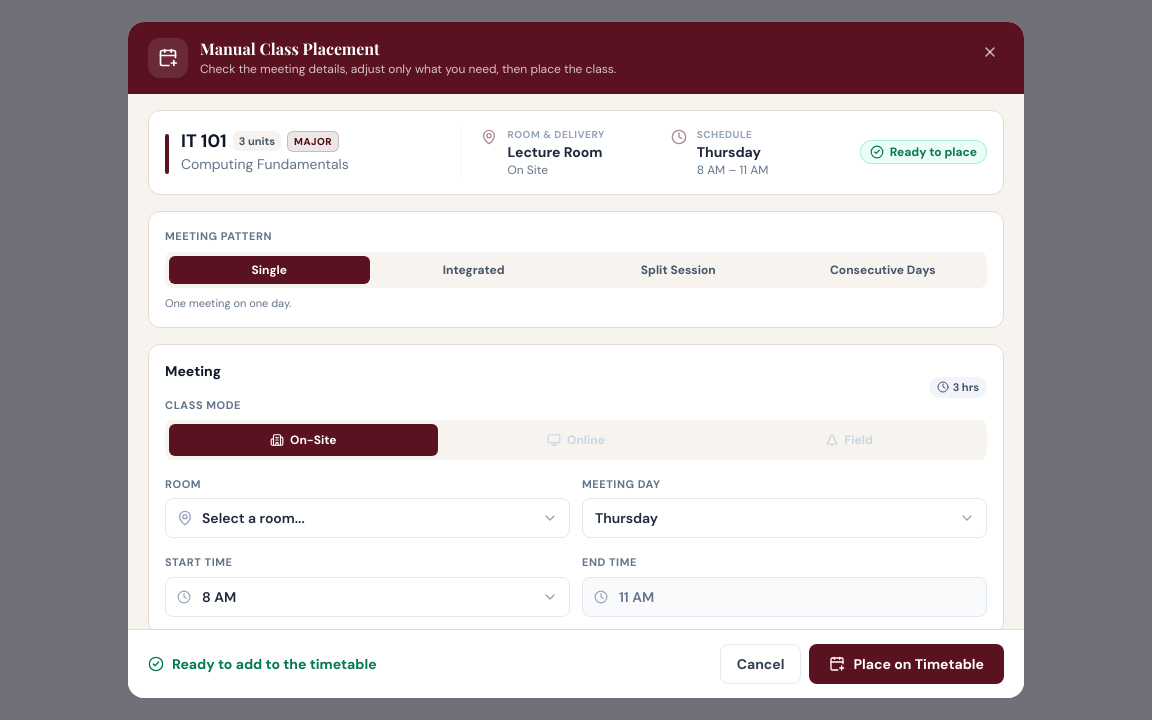
Test: DropModal Integrated configuration › keeps Thursday as the laboratory day and adds the online lecture separately
Check: the heading "Laboratory Meeting" is not shown
Check: the button "Online" is disabled, box 442,424 -> 710,456
Click the radio button labelled "Integrated": (474, 270) 374,256 -> 574,284
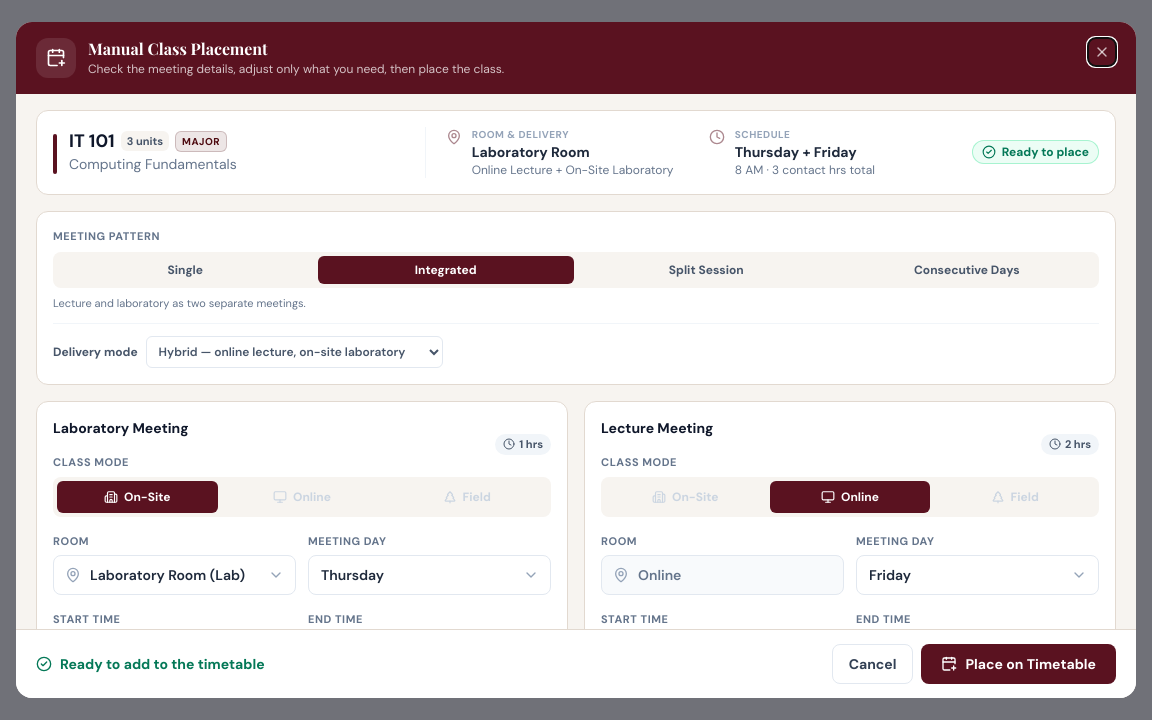
Check: the dropdown named "First meeting day" shows "Thursday", box 308,555 -> 551,595
Check: the field holds "Online", box 601,555 -> 844,595
Check: the button "Online" below "Lecture Meeting" is enabled, box 770,481 -> 930,513
